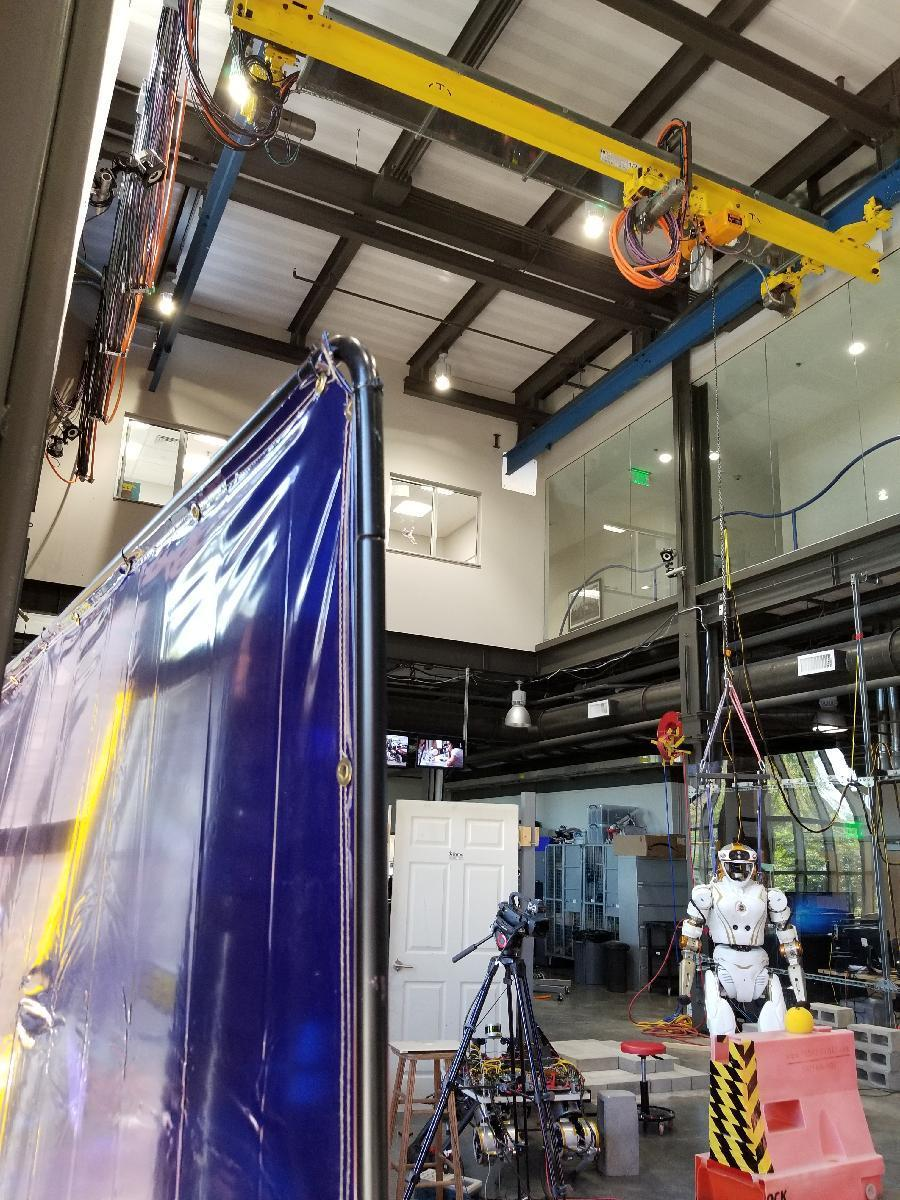door: (391, 801, 519, 1051)
